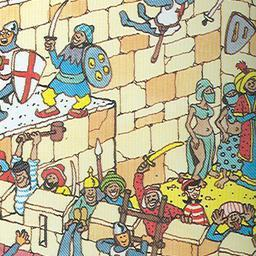waldo: (174, 171, 207, 204)
